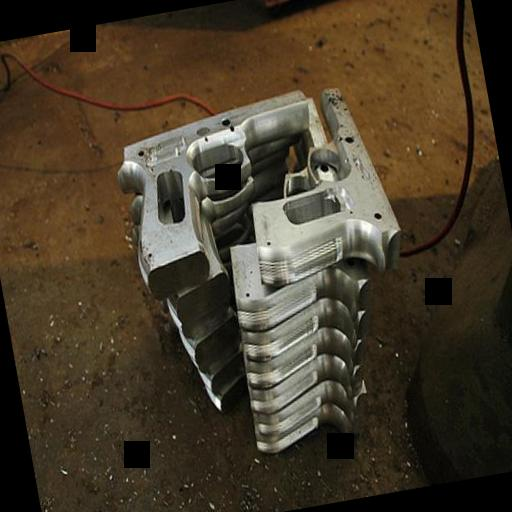Handgun: (104, 84, 334, 304), (228, 76, 406, 292)
